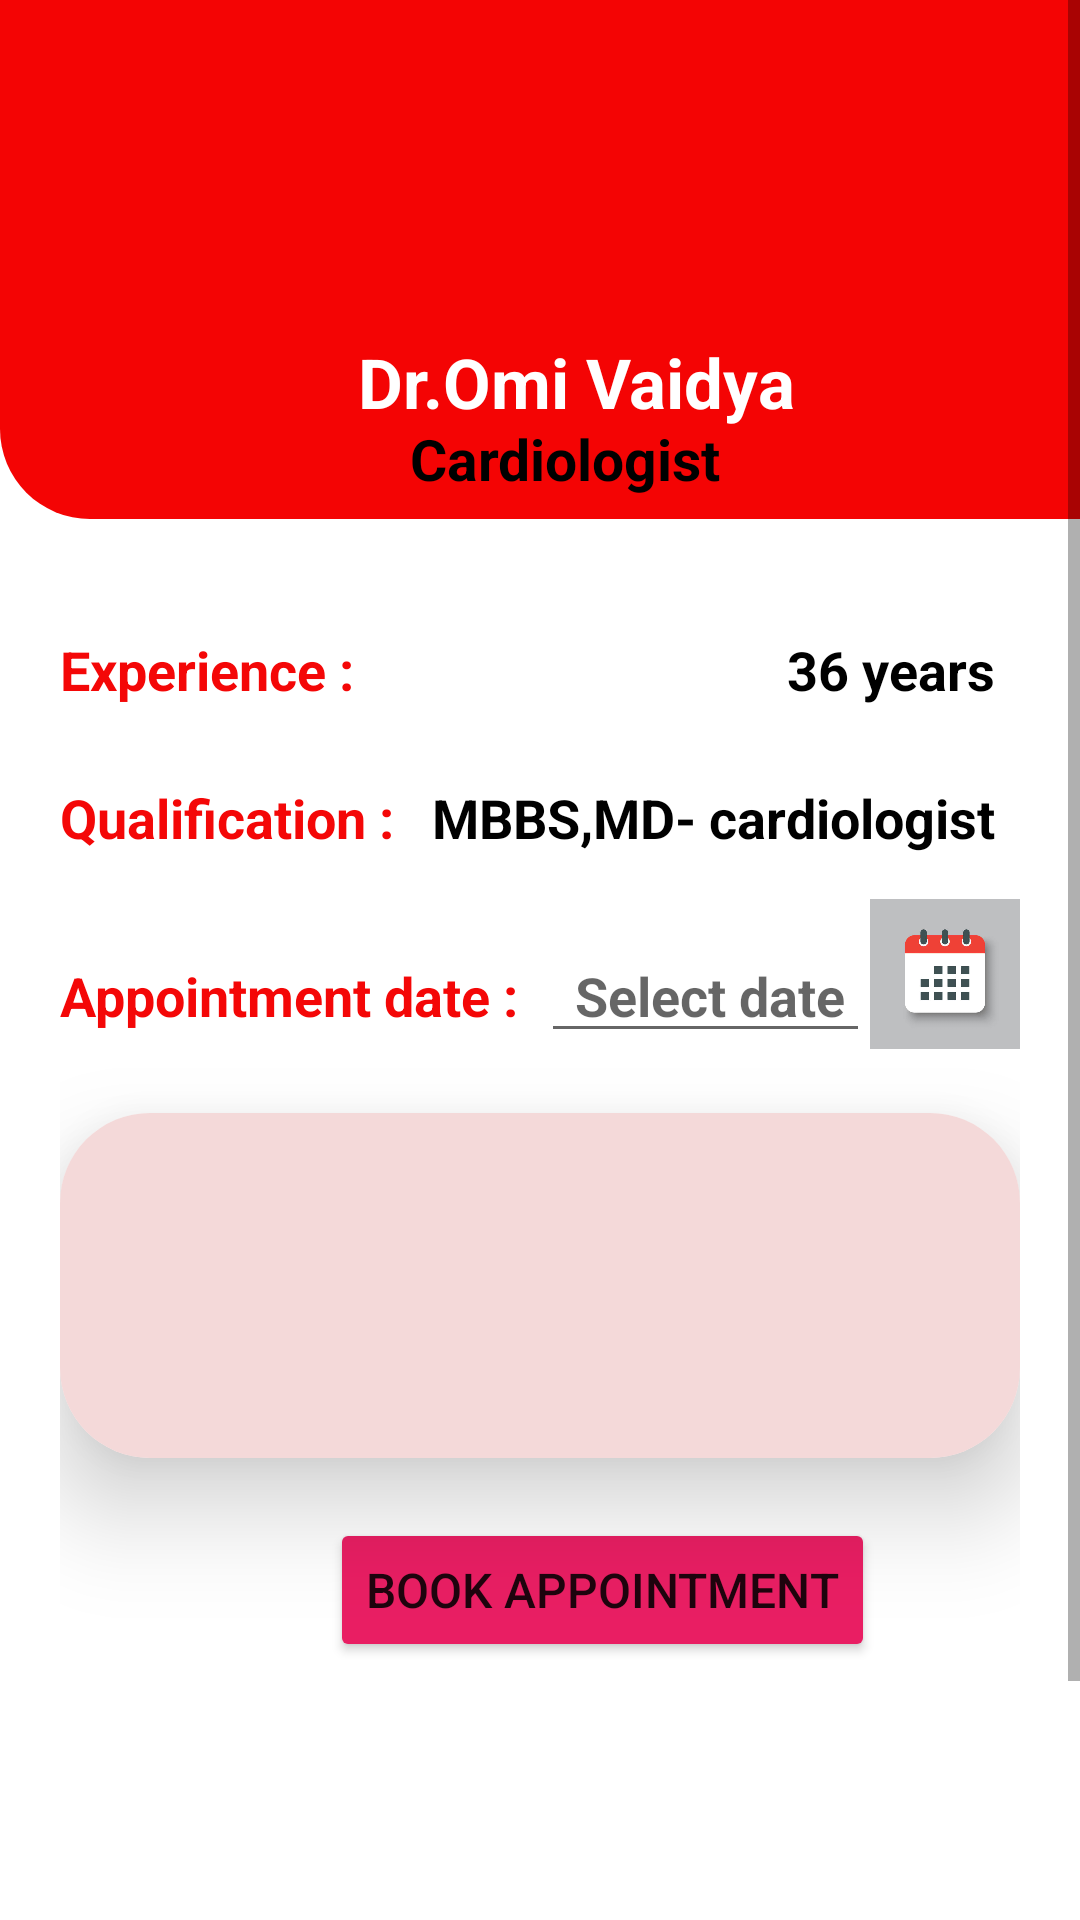

Named icons in this screenshot (1080×1920) and their bounding boxes, (x1, y1, x2, y2):
calender: (870, 899, 1020, 1049)
